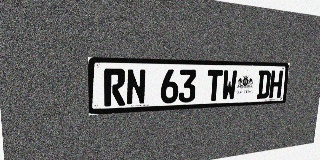3: (178, 69, 196, 103)
6: (160, 69, 179, 104)
D: (256, 70, 271, 99)
H: (269, 70, 283, 98)
N: (126, 69, 146, 105)
R: (104, 68, 125, 106)
T: (206, 70, 223, 101)
W: (221, 70, 237, 101)
